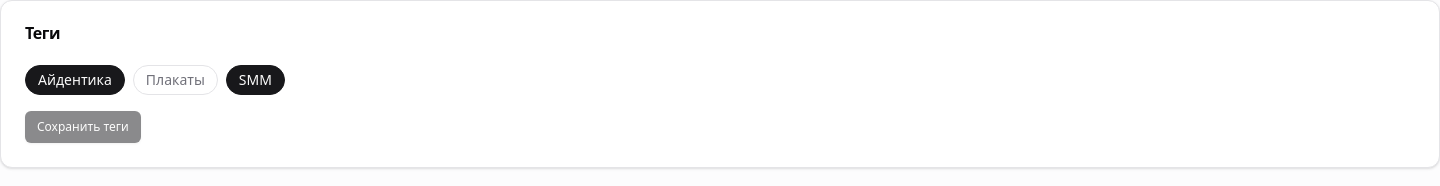
Test: WorkTagsCard › набор тегов неупорядочен: тот же состав в другом порядке — не «изменения»
The width and height of the screenshot is (1440, 186).
Expected: the button "Сохранить теги" is disabled, left=25, top=111, right=141, bottom=143
What coordinates should you click on to do the following:
click the button "SMM"
I would click on:
 (255, 80)
Its box is left=226, top=65, right=285, bottom=95.
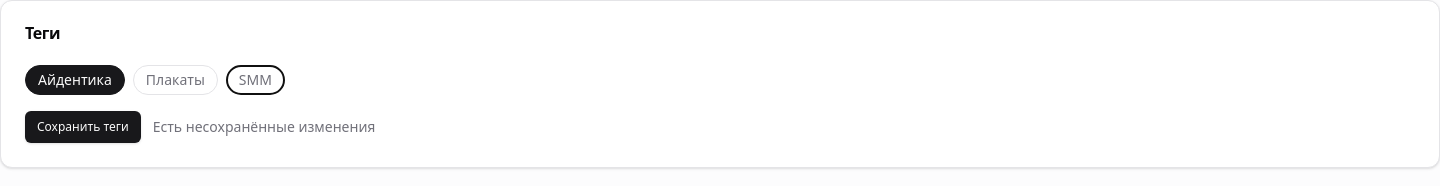
What coordinates should you click on to do the following:
click the button "SMM"
I would click on:
 (255, 80)
Its box is left=226, top=65, right=285, bottom=95.
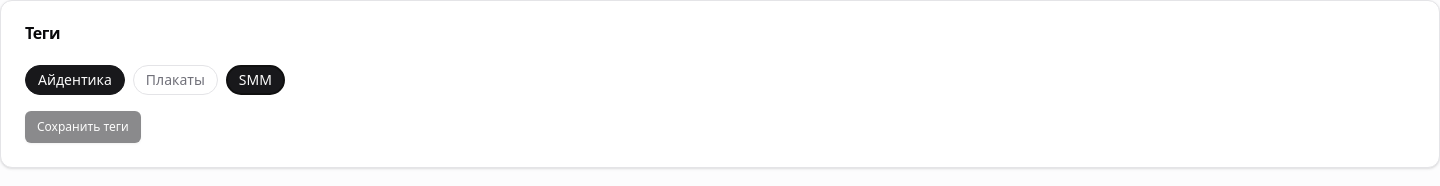
Result: the button "Сохранить теги" is disabled at left=25, top=111, right=141, bottom=143
